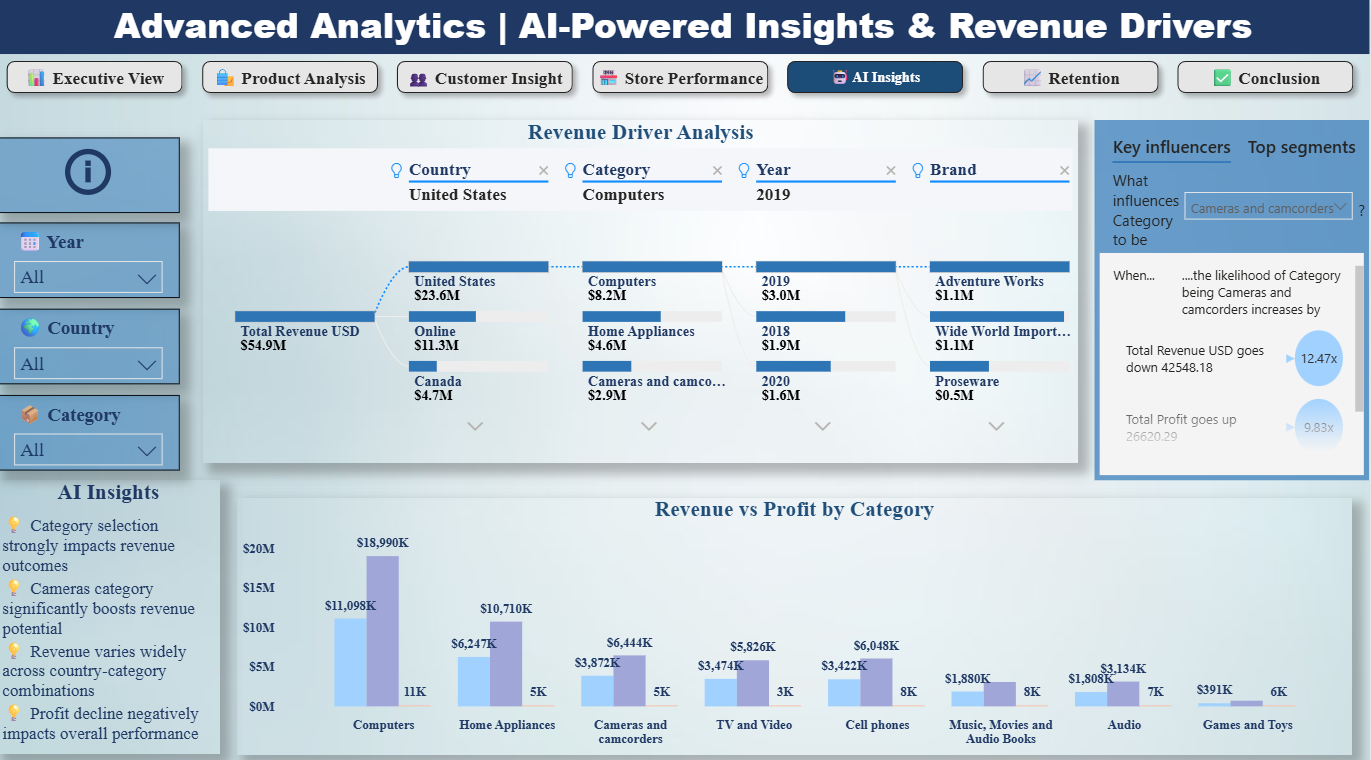

The page's visual inventory and layout, read from the dashboard file:
{"tool":"powerbi","page":{"name":"🤖 AI Insights","canvas":[1280,720],"ordinal":5},"visuals":[{"type":"textbox","title":"Advanced Analytics | AI-Powered Insights & Revenue Drivers","box":[0,0,1280,50],"z":0},{"type":"pageNavigator","box":[0,48,1280,48],"z":1000},{"type":"slicer","fields":{"Values":["Date Table.Year"]},"box":[0,208,170,70],"z":2000},{"type":"slicer","fields":{"Values":["Customers.Continent"]},"box":[0,288,170,70],"z":3000},{"type":"slicer","fields":{"Values":["Products.Category"]},"box":[0,368,170,70],"z":4000},{"type":"decompositionTreeVisual","title":"Revenue Driver Analysis","fields":{"Analyze":["Measure.Total Revenue"],"ExplainBy":["Stores.Country","Products.Category","Date Table.Year","Products.Brand"]},"box":[192,112,816,320],"z":5000},{"type":"clusteredColumnChart","title":"Revenue vs Profit by Category","fields":{"Y":["Measure.Total Profit","Measure.Total Revenue","Measure.Total Orders"],"Category":["Products.Category"]},"box":[224,464,1040,240],"z":6000},{"type":"actionButton","box":[0,128,170,70],"z":7000},{"type":"textbox","title":"AI Insights ","box":[0,448,208,256],"z":8000},{"type":"keyDriversVisual","fields":{"Target":["Products.Category"],"ExplainBy":["Measure.Total Profit","Measure.Total Revenue"]},"box":[1024,112,256,336],"z":9000}]}

Visuals, with their boxes in screenshot pixels (x1, y1, x2, y2), scaled from the page's 1280x720 canvas onto the 1371x760 screenshot:
"Advanced Analytics | AI-Powered Insights & Revenue Drivers" textbox: detection(0, 0, 1370, 53)
pageNavigator: detection(0, 51, 1370, 101)
slicer - Date Table.Year: detection(0, 220, 182, 293)
slicer - Customers.Continent: detection(0, 304, 182, 378)
slicer - Products.Category: detection(0, 388, 182, 462)
"Revenue Driver Analysis" decompositionTreeVisual: detection(206, 118, 1080, 456)
"Revenue vs Profit by Category" clusteredColumnChart: detection(240, 490, 1354, 743)
actionButton: detection(0, 135, 182, 209)
"AI Insights " textbox: detection(0, 473, 223, 743)
keyDriversVisual - Products.Category x Measure.Total Profit: detection(1097, 118, 1370, 473)
